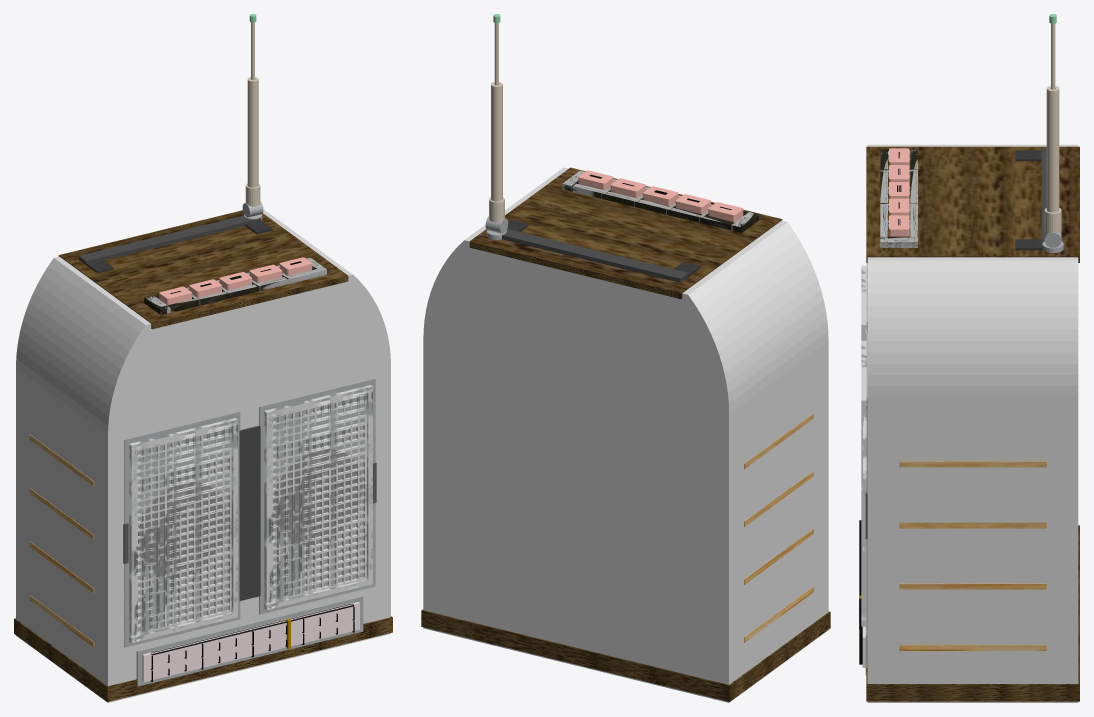
File: Technology_Audio_Device__1720.glb
3 views of the same model, side by side, from view 1: azimuth 30°, elevation 25°; view 2: azimuth 150°, elevation 25°; view 3: azimuth 270°, elevation 25° (orthographic). The views are drawn at different scales.
Visible parts, largest first — view 1: cabinet::cabinet_form__tombstone_upright__shell, cabinet::grille_style__perforated_mesh__field_1, cabinet::grille_style__perforated_mesh__field_0, cabinet::cabinet_form__tombstone_upright__crown_platform, cabinet::speaker_layout__dual_stereo__field_bezel_1, cabinet::speaker_layout__dual_stereo__field_bezel_0, cabinet::cabinet_form__tombstone_upright__dial_face, cabinet::cabinet_form__tombstone_upright__base_moulding, cabinet::speaker_layout__dual_stereo__cone_0, cabinet::speaker_layout__dual_stereo__cone_1, cabinet::speaker_layout__dual_stereo__center_spine, cabinet::cabinet_form__tombstone_upright__dial_bezel (+5 smaller); view 2: cabinet::cabinet_form__tombstone_upright__shell, cabinet::cabinet_form__tombstone_upright__crown_platform, cabinet::cabinet_form__tombstone_upright__base_moulding, cabinet::carry_handle__molded_top_lip__rear_lip, cabinet::cabinet_form__tombstone_upright__side_trim, control_deck::control_deck__push_button_row__deck_rail_1, antenna_module__rear_telescoping_mast__base::antenna_module_; view 3: cabinet::cabinet_form__tombstone_upright__shell, cabinet::cabinet_form__tombstone_upright__crown_platform, cabinet::cabinet_form__tombstone_upright__base_moulding, cabinet::cabinet_form__tombstone_upright__side_trim, antenna_module__rear_telescoping_mast__base::antenna_module_ (×2), cabinet::grille_style__perforated_mesh__field_1, control_deck::control_deck__push_button_row__deck_rail_0, control_deck::control_deck__push_button_row__deck_rail_1, cabinet::carry_handle__molded_top_lip__rear_lip, cabinet::speaker_layout__dual_stereo__field_bezel_1, cabinet::grille_style__perforated_mesh__field_0, cabinet::cabinet_form__tombstone_upright__dial_scale (+5 smaller).
Part boxes in pixels (<box>): cabinet::cabinet_form__tombstone_upright__shell: <box>16,209,390,702</box>; cabinet::grille_style__perforated_mesh__field_1: <box>264,385,372,610</box>; cabinet::grille_style__perforated_mesh__field_0: <box>129,418,237,642</box>; cabinet::cabinet_form__tombstone_upright__crown_platform: <box>58,210,348,329</box>; cabinet::speaker_layout__dual_stereo__field_bezel_1: <box>259,378,375,614</box>; cabinet::speaker_layout__dual_stereo__field_bezel_0: <box>124,411,240,647</box>; cabinet::cabinet_form__tombstone_upright__dial_face: <box>142,602,359,681</box>; cabinet::cabinet_form__tombstone_upright__base_moulding: <box>14,616,392,701</box>; cabinet::speaker_layout__dual_stereo__cone_0: <box>138,481,227,577</box>; cabinet::speaker_layout__dual_stereo__cone_1: <box>273,448,362,544</box>; cabinet::speaker_layout__dual_stereo__center_spine: <box>239,425,260,600</box>; cabinet::cabinet_form__tombstone_upright__dial_bezel: <box>136,596,363,686</box>; cabinet::cabinet_form__tombstone_upright__shell: <box>423,167,828,702</box>; cabinet::cabinet_form__tombstone_upright__crown_platform: <box>469,167,782,299</box>; cabinet::cabinet_form__tombstone_upright__base_moulding: <box>421,609,830,701</box>; cabinet::carry_handle__molded_top_lip__rear_lip: <box>502,229,688,282</box>; cabinet::cabinet_form__tombstone_upright__side_trim: <box>744,413,813,642</box>; control_deck::control_deck__push_button_row__deck_rail_1: <box>562,181,744,232</box>; antenna_module__rear_telescoping_mast__base::antenna_module_: <box>491,82,502,201</box>; cabinet::cabinet_form__tombstone_upright__shell: <box>867,144,1078,702</box>; cabinet::cabinet_form__tombstone_upright__crown_platform: <box>866,146,1079,262</box>; cabinet::cabinet_form__tombstone_upright__base_moulding: <box>866,525,1079,701</box>; cabinet::cabinet_form__tombstone_upright__side_trim: <box>899,461,1046,650</box>; antenna_module__rear_telescoping_mast__base::antenna_module_ (×2): <box>1044,86,1061,233</box>; cabinet::grille_style__perforated_mesh__field_1: <box>861,341,866,626</box>; control_deck::control_deck__push_button_row__deck_rail_0: <box>880,149,887,247</box>; control_deck::control_deck__push_button_row__deck_rail_1: <box>910,149,917,247</box>; cabinet::carry_handle__molded_top_lip__rear_lip: <box>1041,148,1046,250</box>; cabinet::speaker_layout__dual_stereo__field_bezel_1: <box>866,332,867,634</box>; cabinet::grille_style__perforated_mesh__field_0: <box>861,265,866,490</box>; cabinet::cabinet_form__tombstone_upright__dial_scale: <box>859,520,862,664</box>.
Size of the model in its own units: 0.358 by 0.687 by 0.2098.
25 materials, 8 textured.
